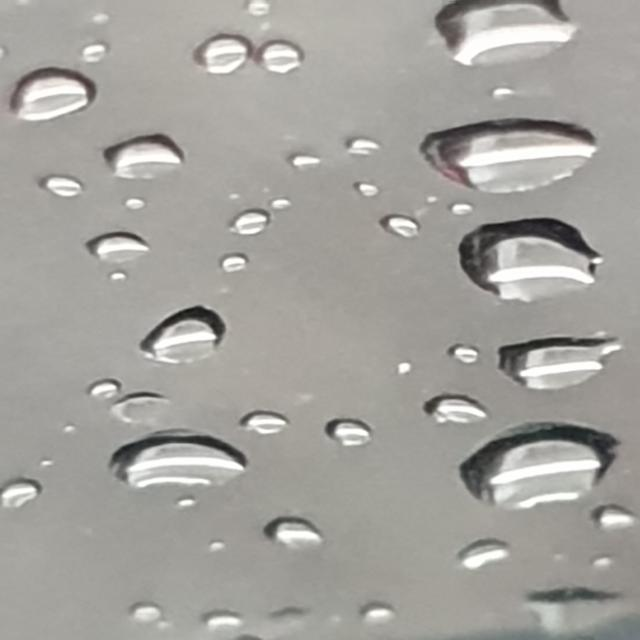raindrop: (452, 206, 625, 314), (419, 106, 626, 194), (460, 430, 625, 518), (422, 0, 612, 71), (490, 321, 628, 398), (112, 424, 264, 484), (134, 298, 248, 366), (0, 65, 107, 127), (99, 120, 206, 180), (440, 530, 548, 582), (524, 587, 640, 635), (89, 384, 196, 430), (76, 215, 172, 266), (414, 380, 507, 428), (104, 576, 166, 640), (260, 507, 341, 553), (319, 401, 401, 446), (335, 122, 420, 165), (184, 31, 252, 84), (478, 72, 556, 118), (0, 467, 57, 524), (252, 32, 314, 84), (353, 210, 436, 248), (226, 192, 285, 244), (352, 590, 430, 627), (27, 156, 82, 207), (334, 357, 434, 385), (237, 392, 290, 443), (275, 592, 333, 626), (203, 0, 284, 23), (214, 240, 265, 274), (444, 334, 486, 374), (587, 506, 640, 536), (86, 5, 140, 33), (200, 603, 240, 639), (349, 177, 396, 207), (74, 44, 124, 70), (289, 146, 325, 179), (102, 256, 140, 284), (118, 188, 152, 215)
